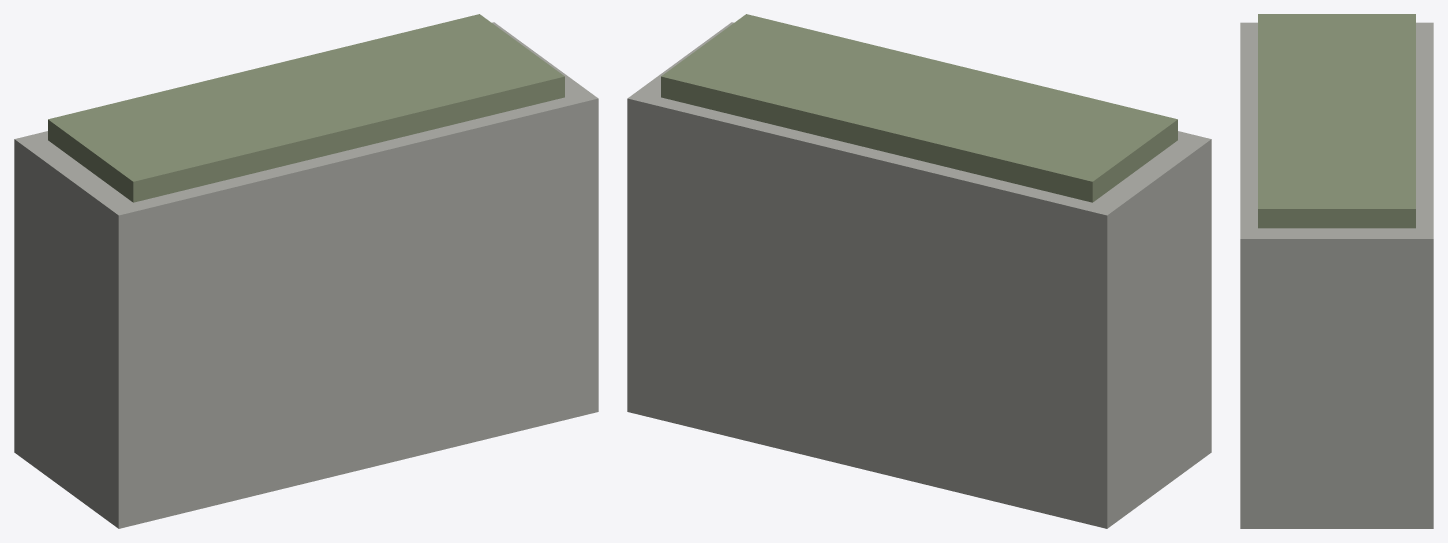
The model's file is iz2_district_plane_tree_guard.glb.
3 renders of one model, left to right at view 1: azimuth 30°, elevation 25°; view 2: azimuth 150°, elevation 25°; view 3: azimuth 270°, elevation 25°, orthographic. The views are drawn at different scales.
Visible parts, largest first — view 1: body; view 2: body; view 3: body.
Boxes of the visible parts, x1,y1,x2,y2 form: body: (14,14,598,528); body: (627,14,1211,528); body: (1240,14,1433,528).
Size of the model in its own units: 1.46 by 0.972 by 0.55.
